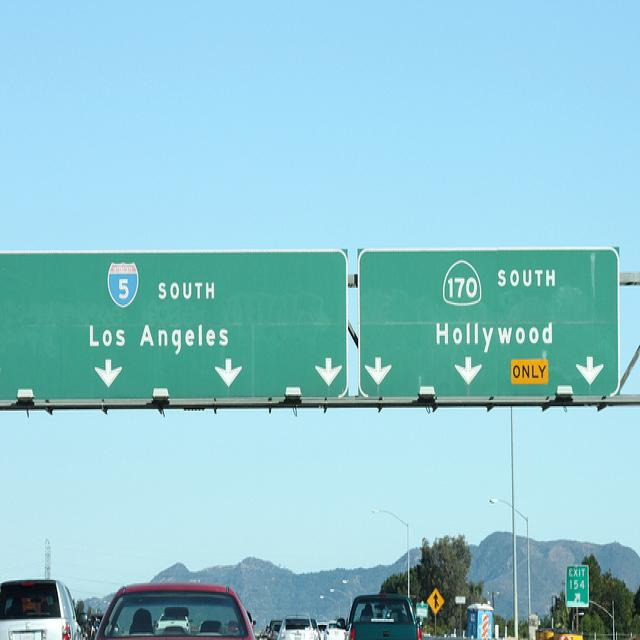Vehicle: (92, 585, 260, 633), (0, 581, 87, 638), (335, 595, 420, 640), (277, 614, 317, 640), (322, 624, 348, 640), (266, 622, 282, 640), (310, 618, 322, 640)
